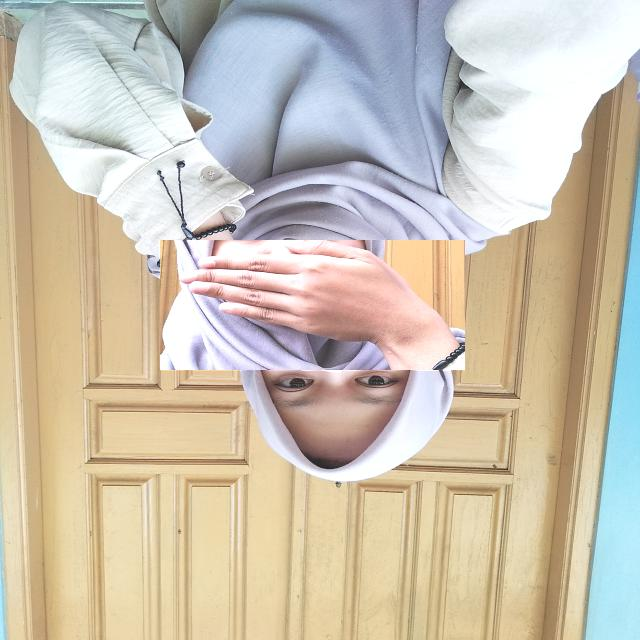buruk: (159, 240, 465, 371)
